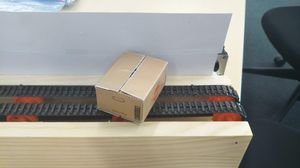box1: (93, 51, 167, 123)
